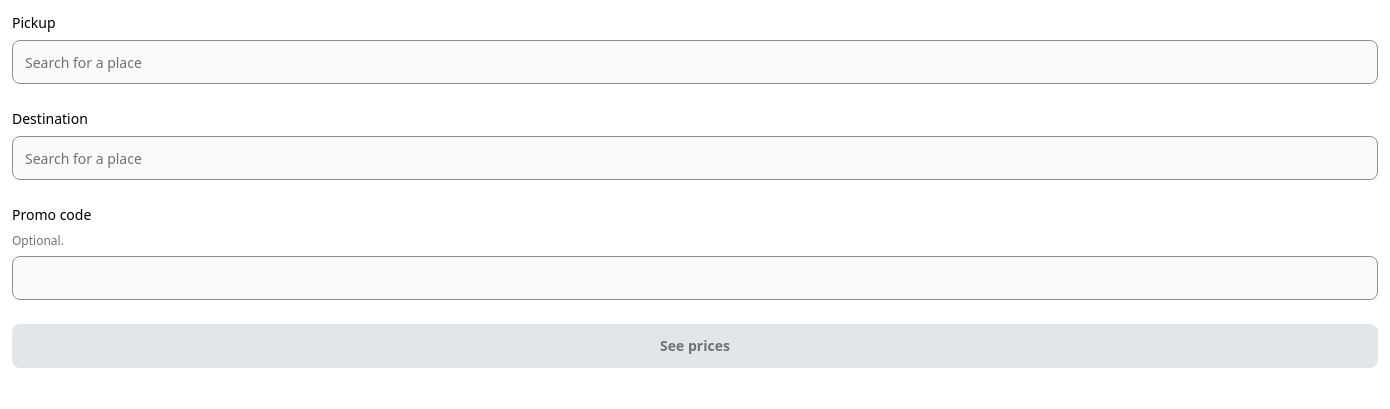
Scenario: BookingForm › puts a refused code on the field rather than in the banner
Type "nope" into the field labelled "Promo code". click: coordinates (695, 278)
box: x1=12 y1=256 x2=1378 y2=300
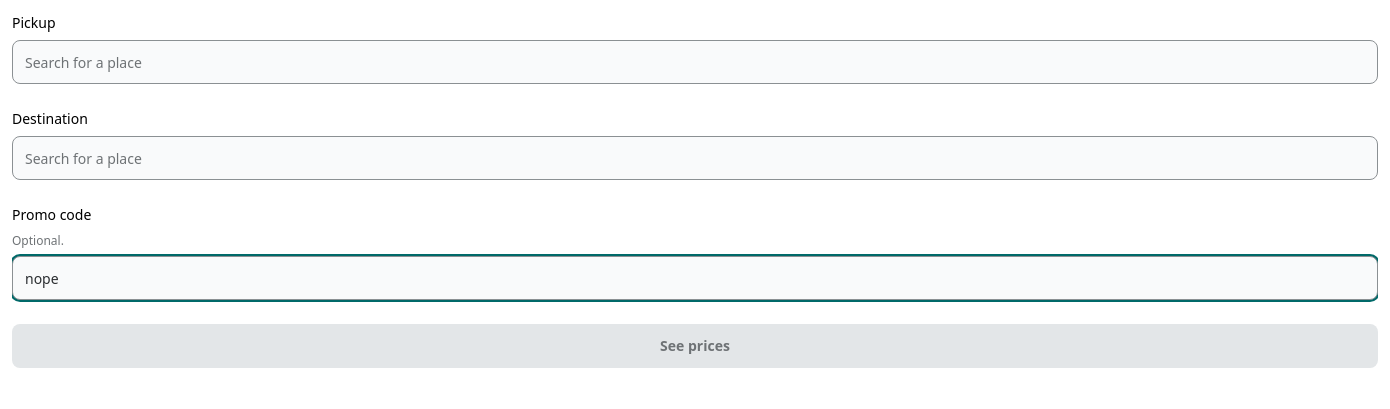
Type "dhanmondi" into the dropdown labelled "Pickup". click: coordinates (695, 62)
box: x1=12 y1=40 x2=1378 y2=84
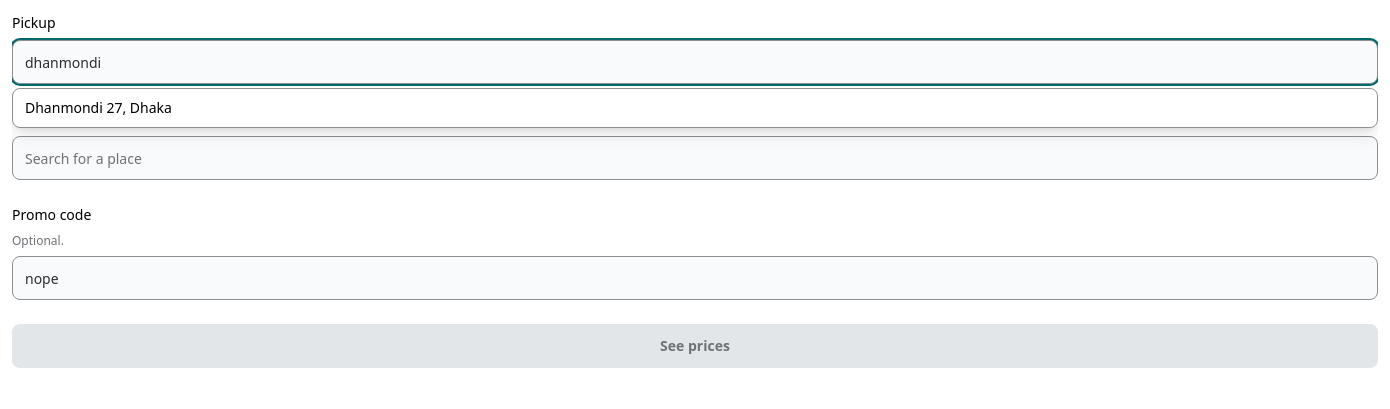
Click the option "Dhanmondi 27, Dhaka". click: coordinates (98, 108)
box: x1=13 y1=89 x2=1377 y2=127
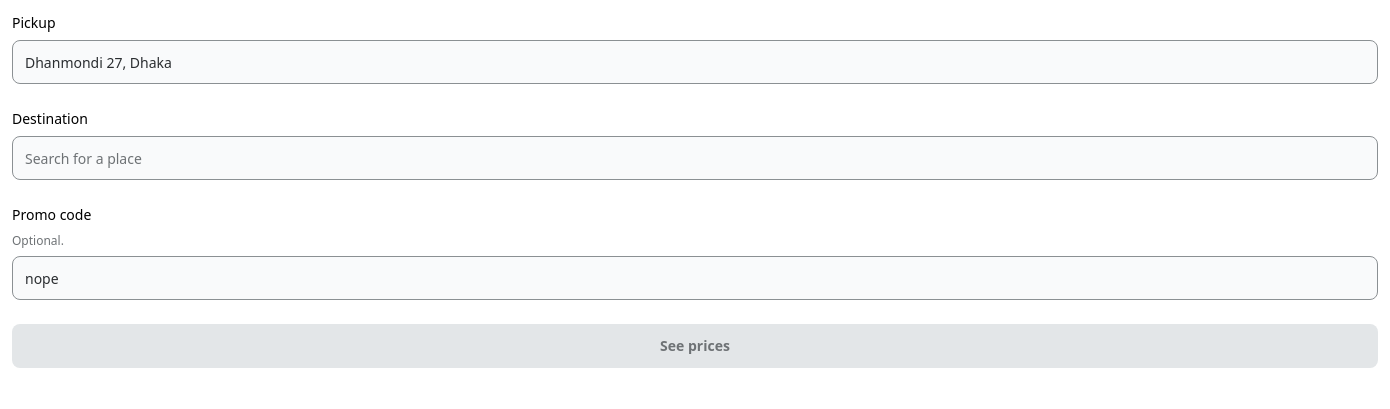
Type "banani" into the dropdown labelled "Destination". click: coordinates (695, 158)
box: x1=12 y1=136 x2=1378 y2=180
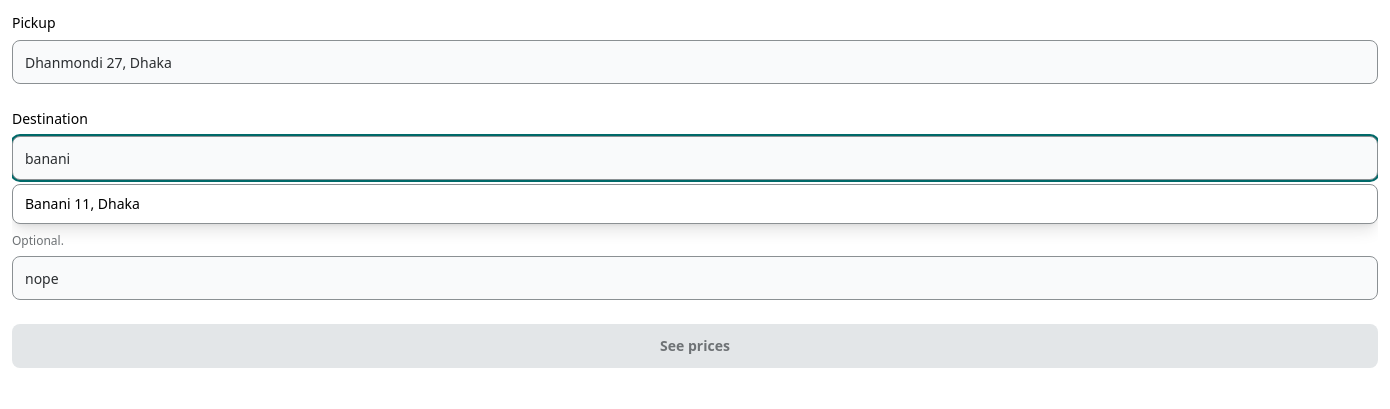
Click the option "Banani 11, Dhaka". click: coordinates (82, 204)
box: x1=13 y1=185 x2=1377 y2=223
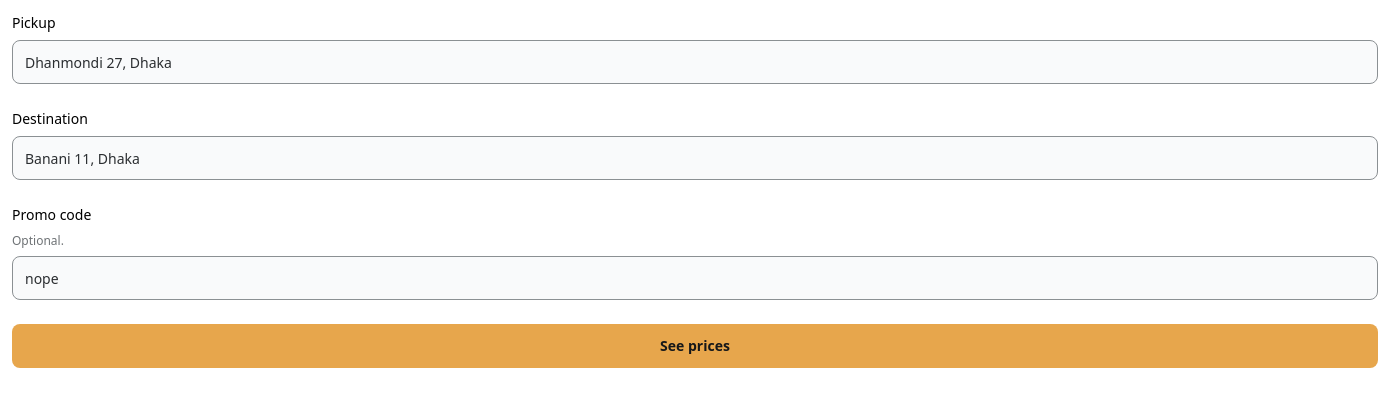
Click the button "See prices". click: coordinates (695, 346)
box: x1=12 y1=324 x2=1378 y2=368
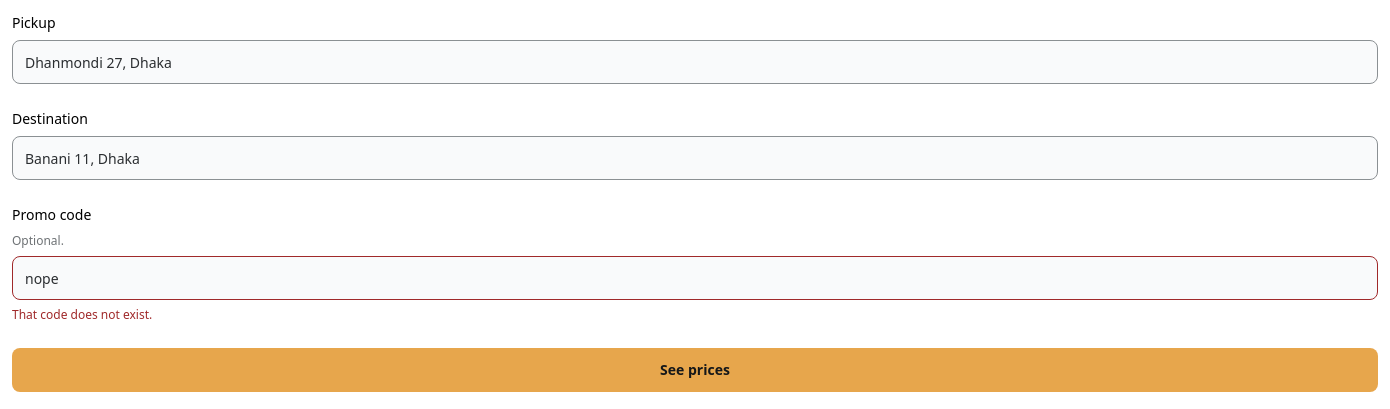
Expected: the message shows "does not exist", x1=12 y1=306 x2=152 y2=323
